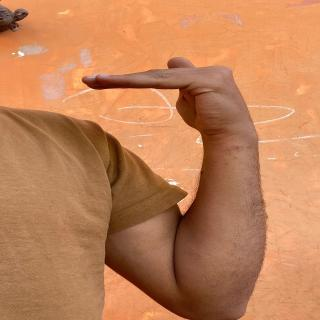KHAA: (80, 58, 284, 134)
